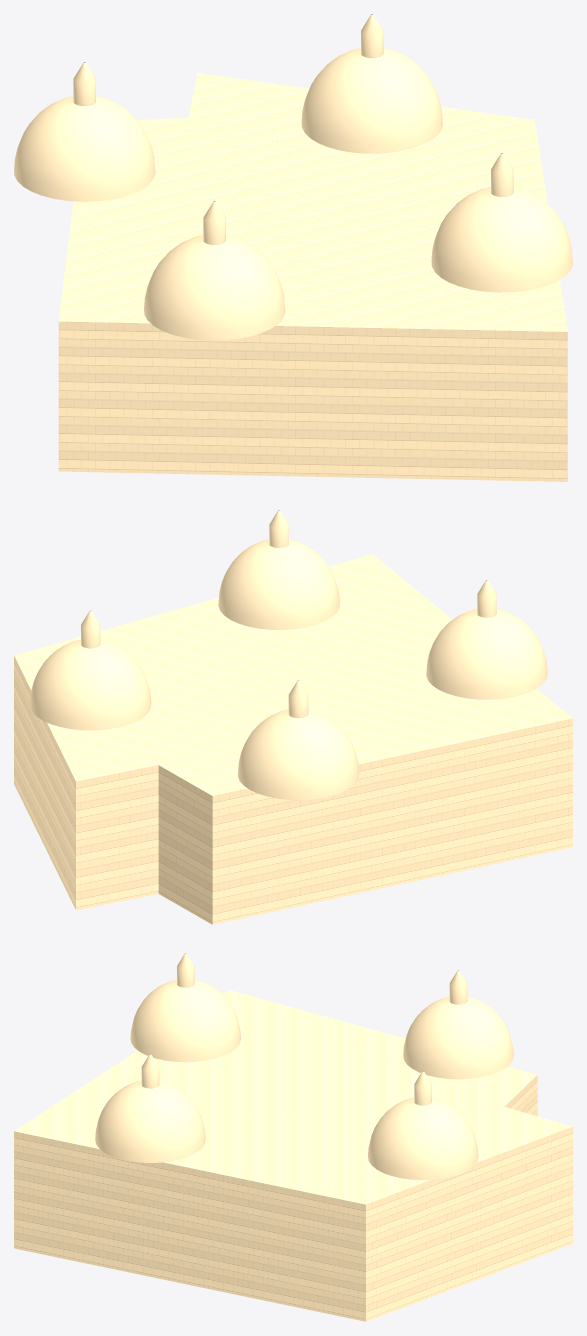
File: landmark-old-hamam.glb
3 views of the same model, one above another, from view 1: azimuth 30°, elevation 25°; view 2: azimuth 150°, elevation 25°; view 3: azimuth 270°, elevation 25° (orthographic). The views are drawn at different scales.
Parts seen in each view (by area): view 1: old-hamam; view 2: old-hamam; view 3: old-hamam.
Part boxes in pixels (x1,y1,x2,y2): old-hamam: [14, 14, 572, 481]; old-hamam: [14, 510, 572, 924]; old-hamam: [14, 953, 572, 1321].
Size of the model in its own units: 27.31 by 12 by 30.06.
2 materials, 1 textured.
